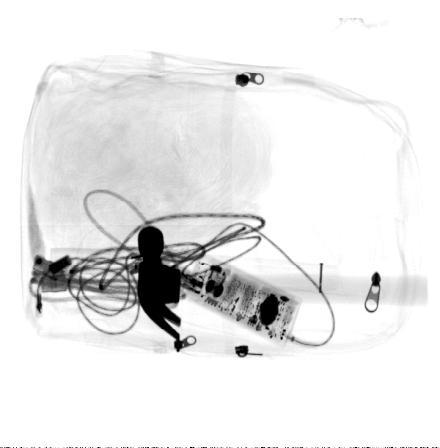Hammer: (135, 224, 431, 343)
